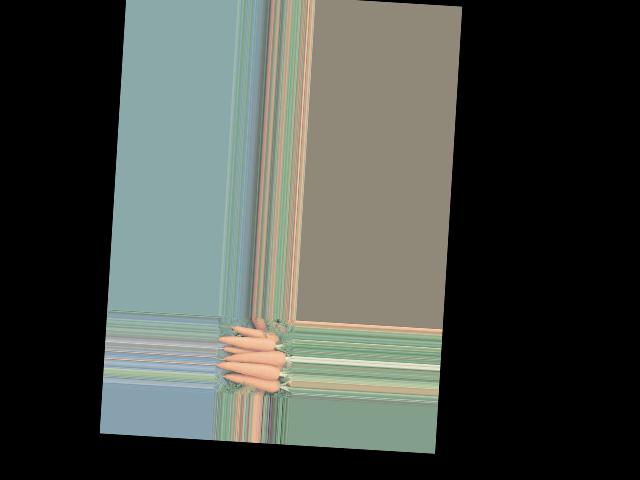carrot: (219, 331, 279, 353)
